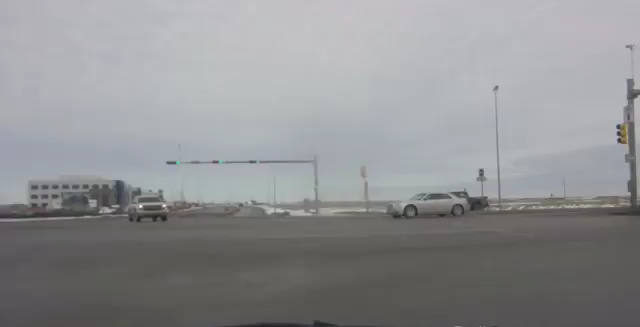car: (386, 190, 471, 218), (428, 189, 490, 218), (125, 195, 172, 221)
